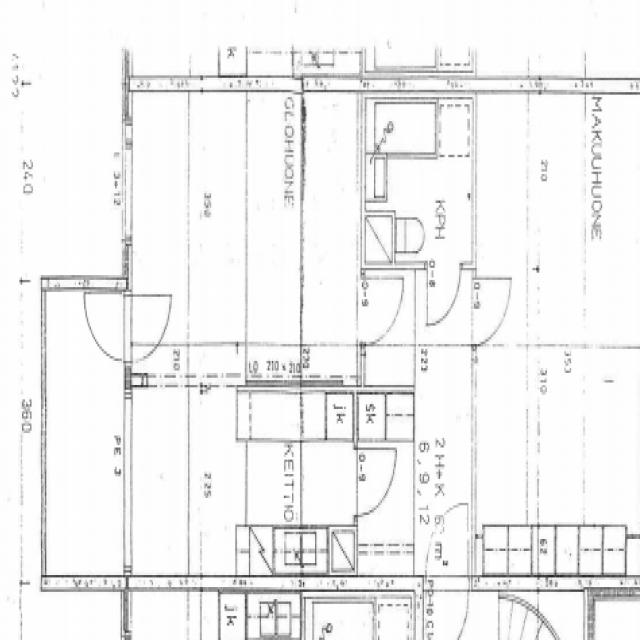door: (427, 504, 468, 592), (122, 294, 170, 361), (85, 294, 132, 361), (358, 278, 402, 344), (471, 278, 514, 344), (353, 449, 395, 515), (427, 576, 468, 640), (427, 262, 461, 330)
